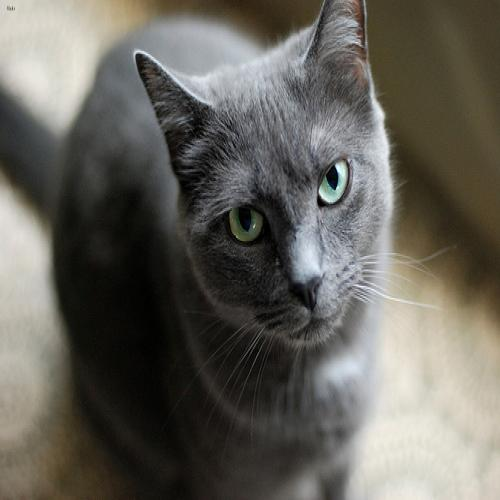rblue: (127, 1, 414, 356)
